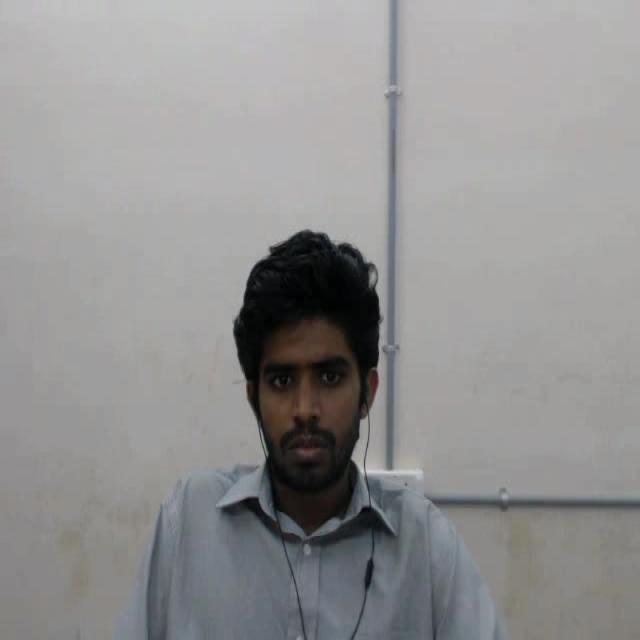Engaged: (218, 227, 424, 528)
